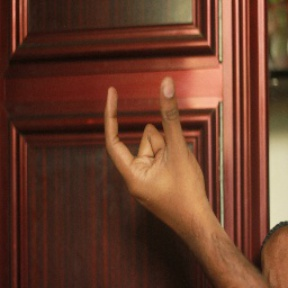U: (95, 67, 201, 209)
